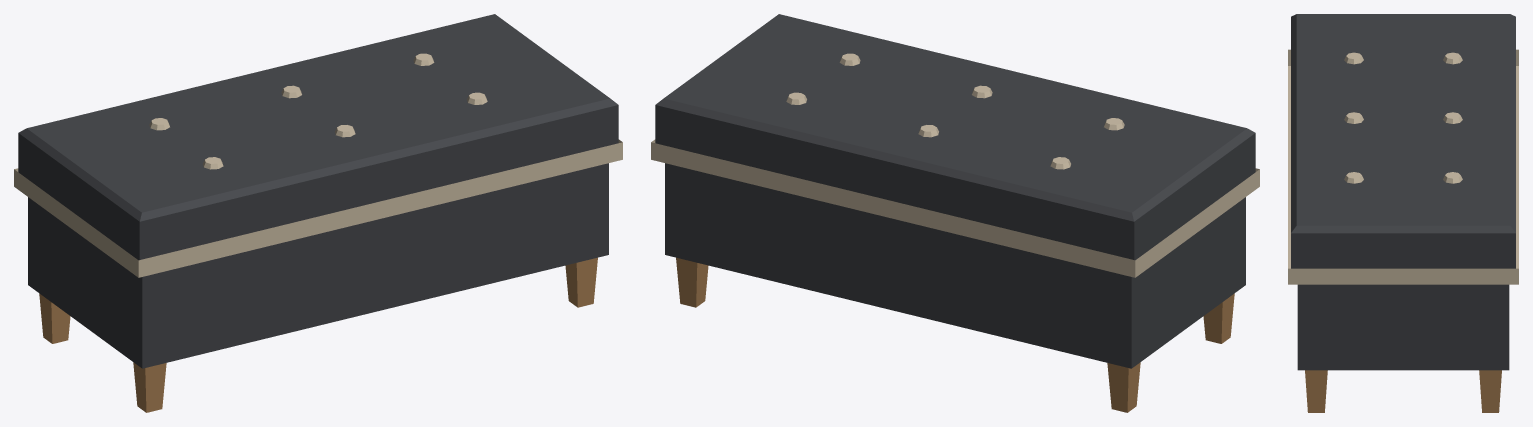
Rendered from FN_Box_Blanket.glb.
The picture shows the model from 3 angles, left to right: view 1: azimuth 30°, elevation 25°; view 2: azimuth 150°, elevation 25°; view 3: azimuth 270°, elevation 25°; orthographic projection. The views are drawn at different scales.
Parts seen in each view (by area): view 1: FN_Box_Blanket; view 2: FN_Box_Blanket; view 3: FN_Box_Blanket.
Boxes of the visible parts, x1,y1,x2,y2 form: FN_Box_Blanket: (14, 14, 622, 412); FN_Box_Blanket: (651, 14, 1259, 412); FN_Box_Blanket: (1288, 14, 1518, 412).
Size of the model in its own units: 1.1 by 0.46 by 0.49.
Materials: 1 (1 with a texture image).
